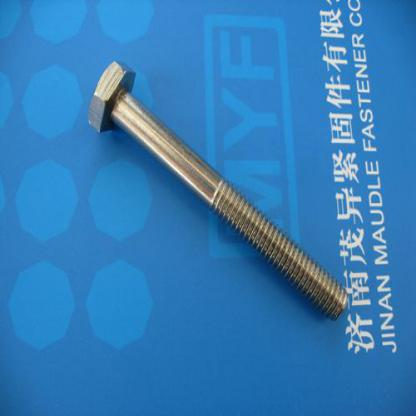FOD: (87, 59, 350, 322)
